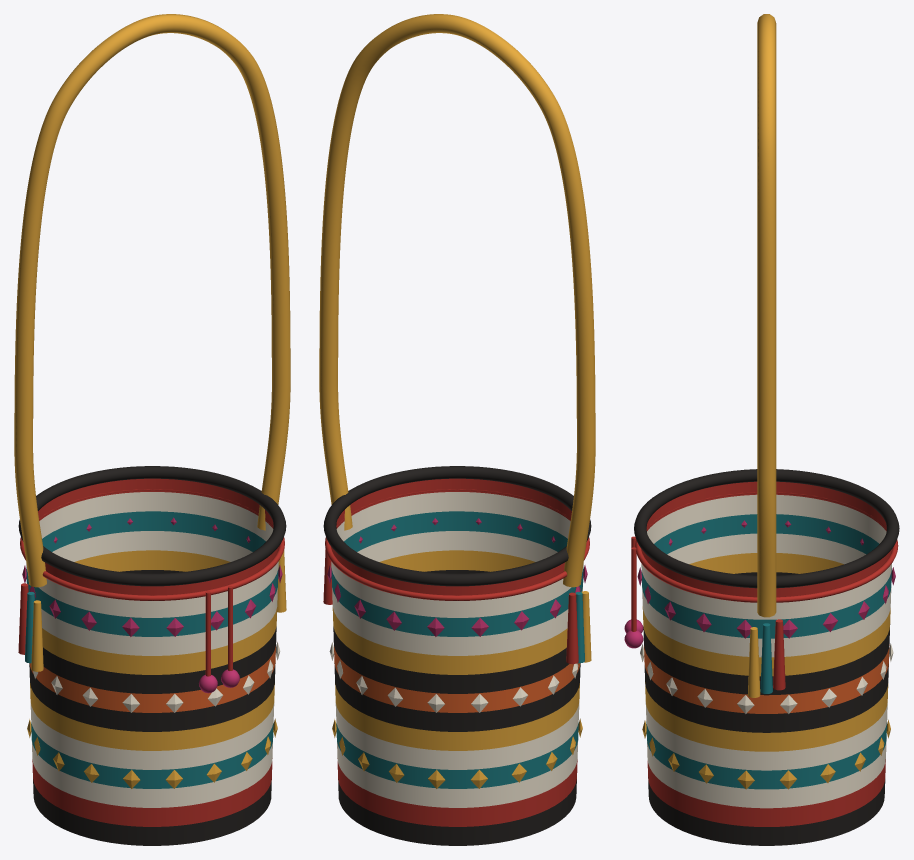
File: mochila-wayuu.glb
The picture shows the model from 3 angles, left to right: view 1: azimuth 30°, elevation 25°; view 2: azimuth 150°, elevation 25°; view 3: azimuth 270°, elevation 25°; orthographic projection.
Parts seen in each view (by area): view 1: Gaza, Franja 13, Franja 11, Franja 12, Borde, Franja 10, Franja 14, Franja 7, Franja 6, Franja 5, Franja 3, Franja 2 (+6 smaller); view 2: Gaza, Franja 13, Franja 11, Franja 12, Borde, Franja 10, Franja 14, Franja 7, Franja 9, Franja 6, Franja 5, Franja 3 (+6 smaller); view 3: Gaza, Franja 13, Franja 11, Franja 12, Borde, Franja 10, Franja 14, Franja 6, Franja 7, Franja 5, Franja 3, Franja 2 (+6 smaller).
Boxes of the visible parts, x1=… form: Gaza: x1=14, y1=14, x2=290, y2=587; Franja 13: x1=26, y1=492, x2=278, y2=617; Franja 11: x1=41, y1=531, x2=277, y2=655; Franja 12: x1=26, y1=511, x2=278, y2=636; Borde: x1=18, y1=466, x2=286, y2=586; Franja 10: x1=42, y1=550, x2=277, y2=674; Franja 14: x1=38, y1=478, x2=278, y2=595; Franja 7: x1=29, y1=663, x2=275, y2=731; Franja 6: x1=30, y1=683, x2=274, y2=750; Franja 5: x1=30, y1=703, x2=274, y2=769; Franja 3: x1=31, y1=740, x2=272, y2=807; Franja 2: x1=32, y1=758, x2=272, y2=826; Gaza: x1=319, y1=14, x2=595, y2=587; Franja 13: x1=331, y1=492, x2=583, y2=617; Franja 11: x1=332, y1=531, x2=582, y2=655; Franja 12: x1=331, y1=511, x2=583, y2=636; Borde: x1=323, y1=466, x2=591, y2=586; Franja 10: x1=332, y1=550, x2=567, y2=674; Franja 14: x1=331, y1=478, x2=571, y2=595; Franja 7: x1=334, y1=663, x2=580, y2=731; Franja 9: x1=333, y1=570, x2=568, y2=693; Franja 6: x1=335, y1=683, x2=579, y2=750; Franja 5: x1=335, y1=703, x2=579, y2=769; Franja 3: x1=337, y1=740, x2=578, y2=807; Gaza: x1=757, y1=14, x2=776, y2=617; Franja 13: x1=641, y1=494, x2=891, y2=619; Franja 11: x1=642, y1=533, x2=891, y2=657; Franja 12: x1=641, y1=514, x2=891, y2=638; Borde: x1=634, y1=469, x2=899, y2=588; Franja 10: x1=642, y1=553, x2=890, y2=676; Franja 14: x1=641, y1=481, x2=892, y2=597; Franja 6: x1=645, y1=682, x2=888, y2=751; Franja 7: x1=644, y1=664, x2=888, y2=732; Franja 5: x1=645, y1=702, x2=887, y2=770; Franja 3: x1=647, y1=739, x2=886, y2=808; Franja 2: x1=647, y1=759, x2=885, y2=826.
Size of the model in its own units: 0.2971 by 0.8094 by 0.261.
